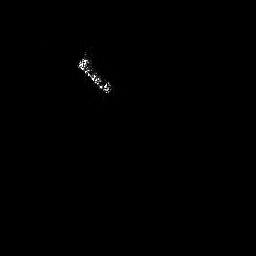ship: (75, 51, 115, 95)
